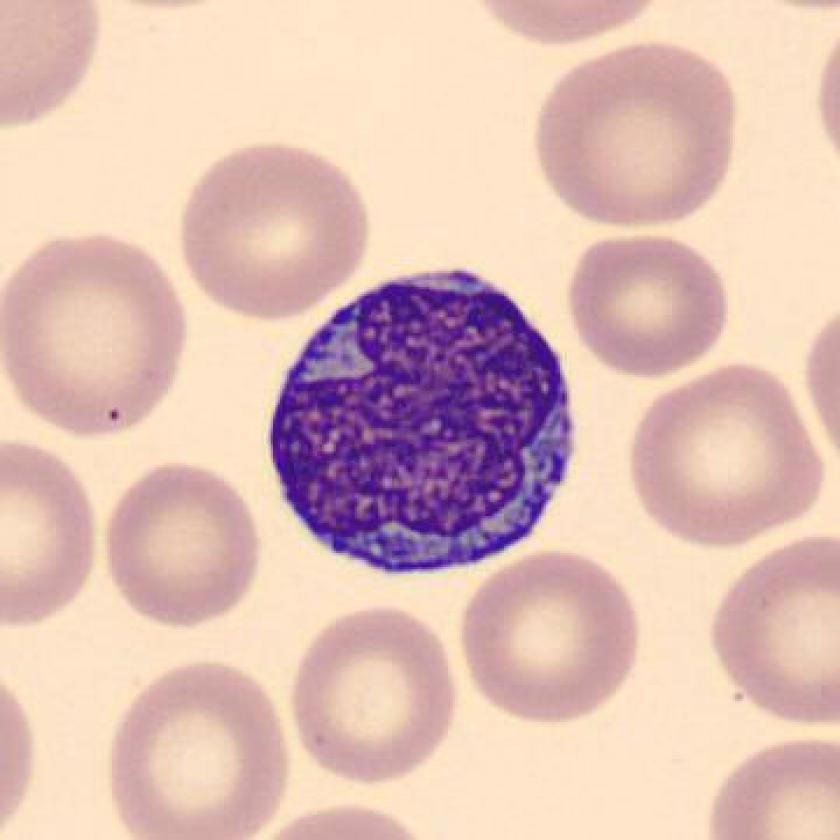monocyte: (251, 237, 589, 600)
